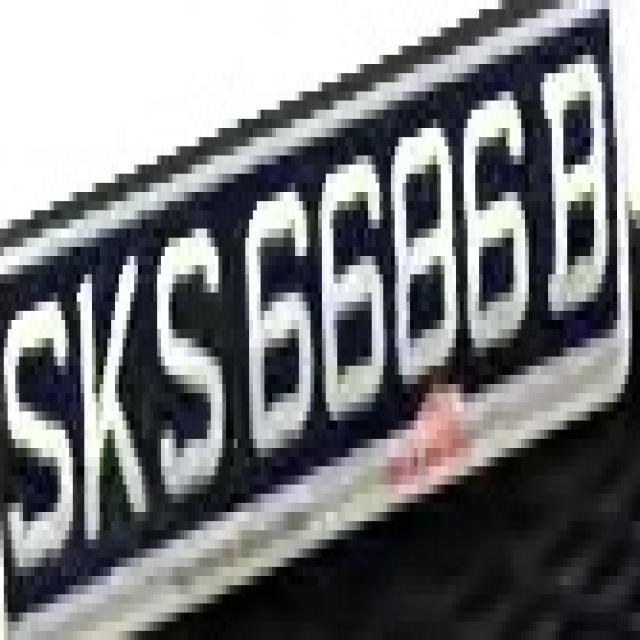6: (456, 64, 529, 411), (242, 173, 318, 484), (310, 155, 376, 448)
8: (380, 119, 468, 411)
B: (544, 55, 606, 375)
K: (61, 228, 157, 567)
S: (11, 238, 73, 594), (142, 210, 214, 494)
